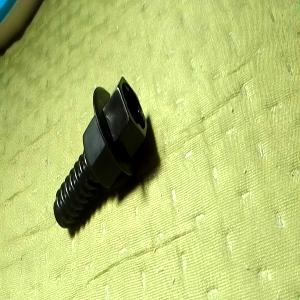parafuso: (52, 75, 147, 229)
